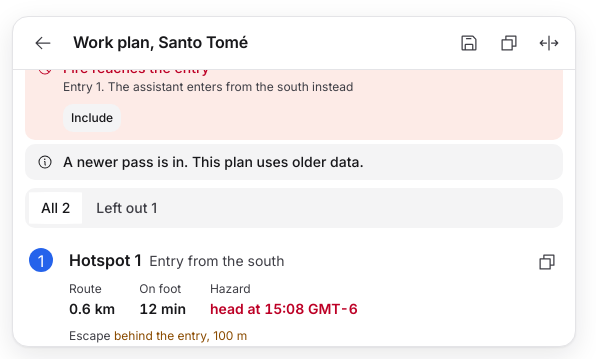
it: the plan window › marks the crew the planner left out and leaves room to filter them
The width and height of the screenshot is (596, 359).
(page scrolled)
Click the button "Left out 1". click: (127, 208)
box: [84,192,169,224]
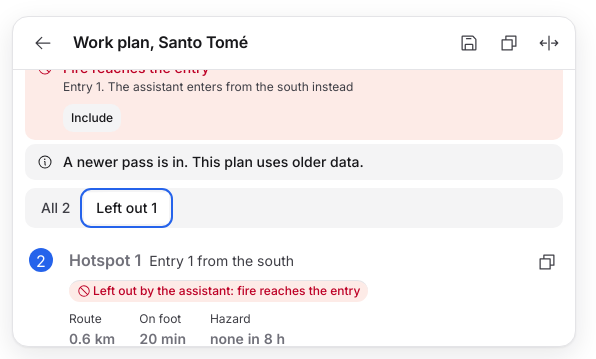
Expected: the button "Left out 1" is pressed, [84,192,169,224]
